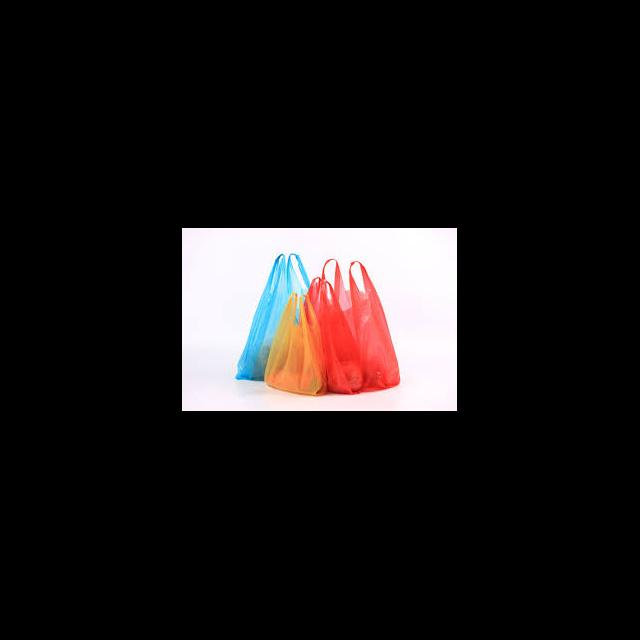plastic: (322, 258, 399, 392), (236, 254, 314, 382), (302, 276, 364, 394), (264, 292, 324, 396)
